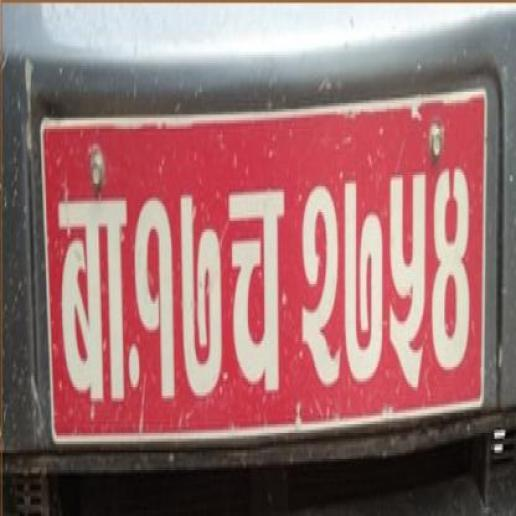1: (134, 190, 179, 411)
2: (295, 175, 344, 393)
4: (430, 161, 474, 382)
5: (386, 170, 427, 399)
7: (179, 186, 227, 404), (341, 173, 386, 399)
ba: (54, 186, 132, 416)
cha: (226, 179, 288, 411)
